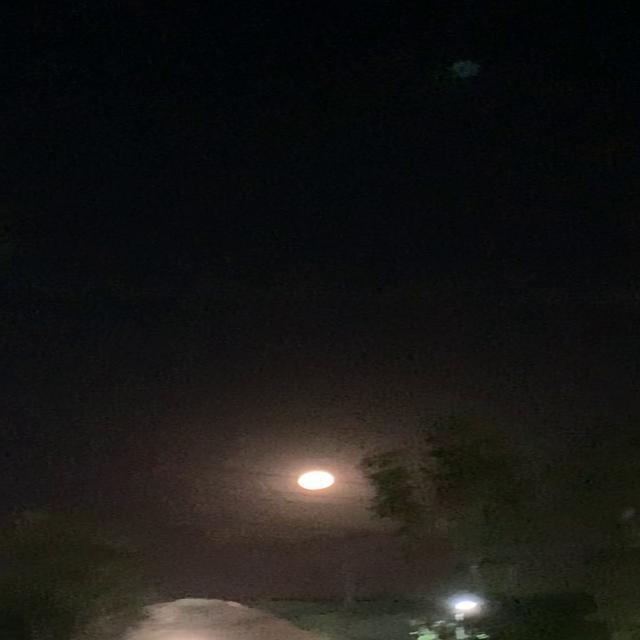moon: (281, 470, 334, 496)
